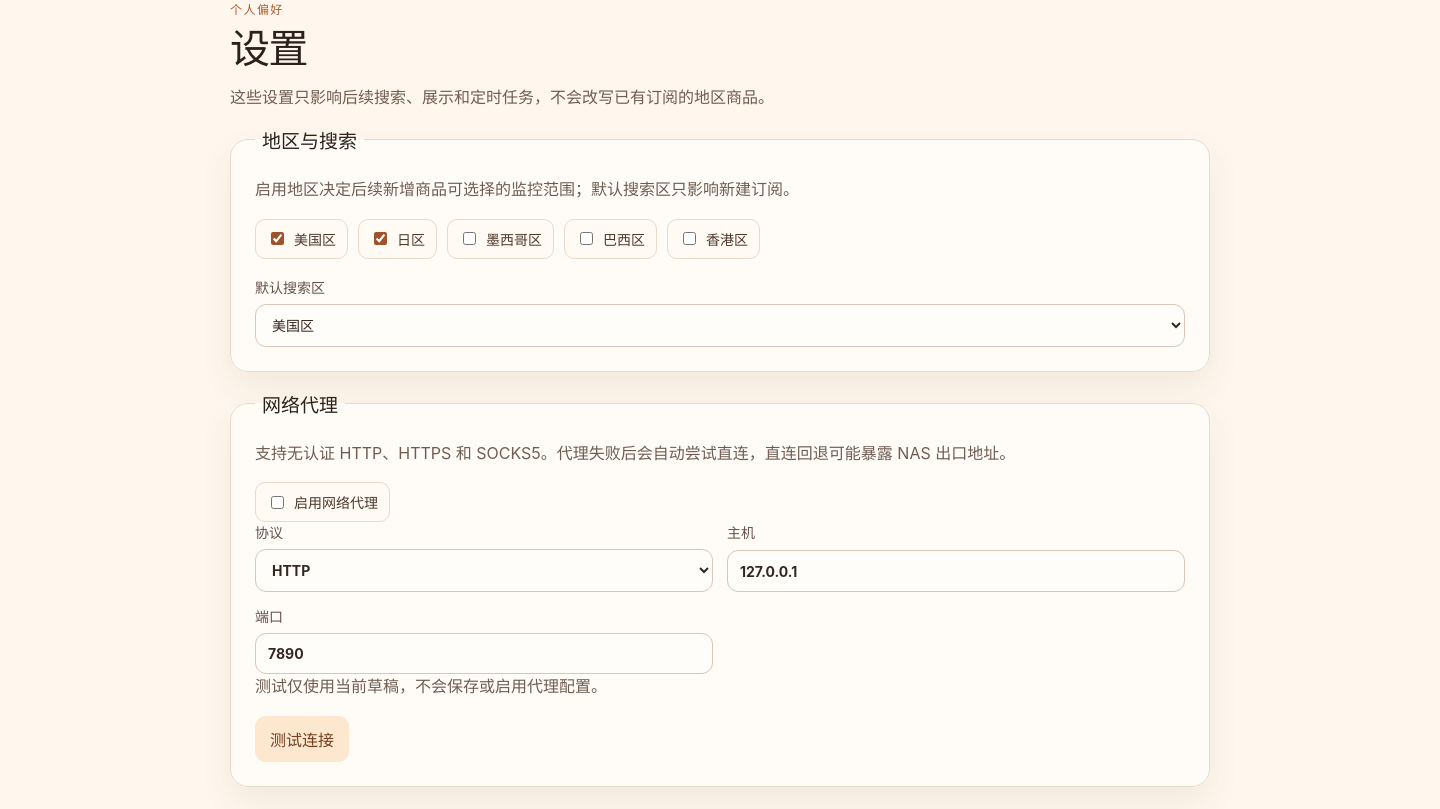
Scenario: 设置页网络代理 › tests only the current proxy draft and renders the two safe transport results
The image size is (1440, 809).
Click the button "测试连接" at (302, 739), box [255,716,349,762]
(page scrolled)
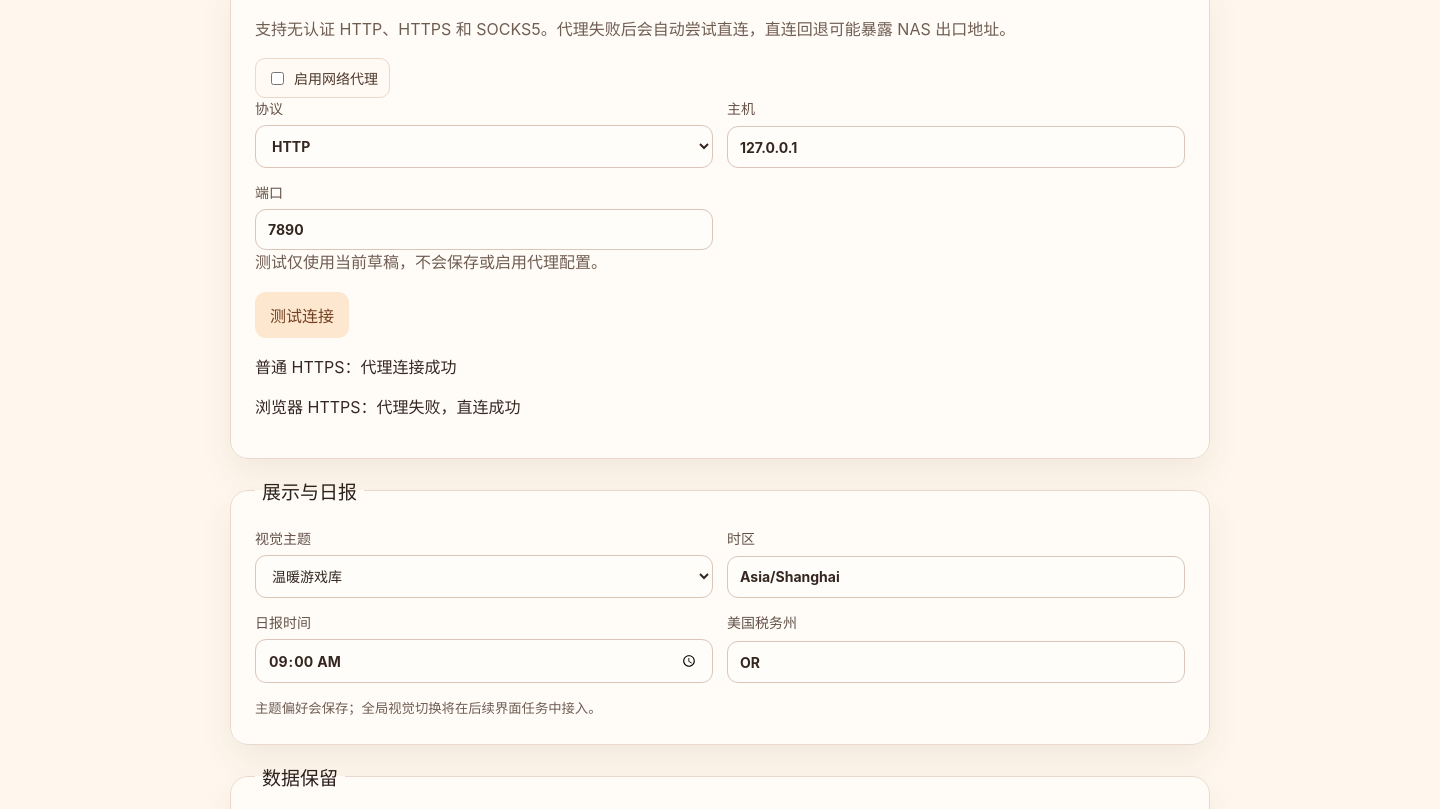
Check: the text "普通 HTTPS：代理连接成功" is shown, box [255,357,457,377]
Check: the text "浏览器 HTTPS：代理失败，直连成功" is shown, box [255,397,521,417]
